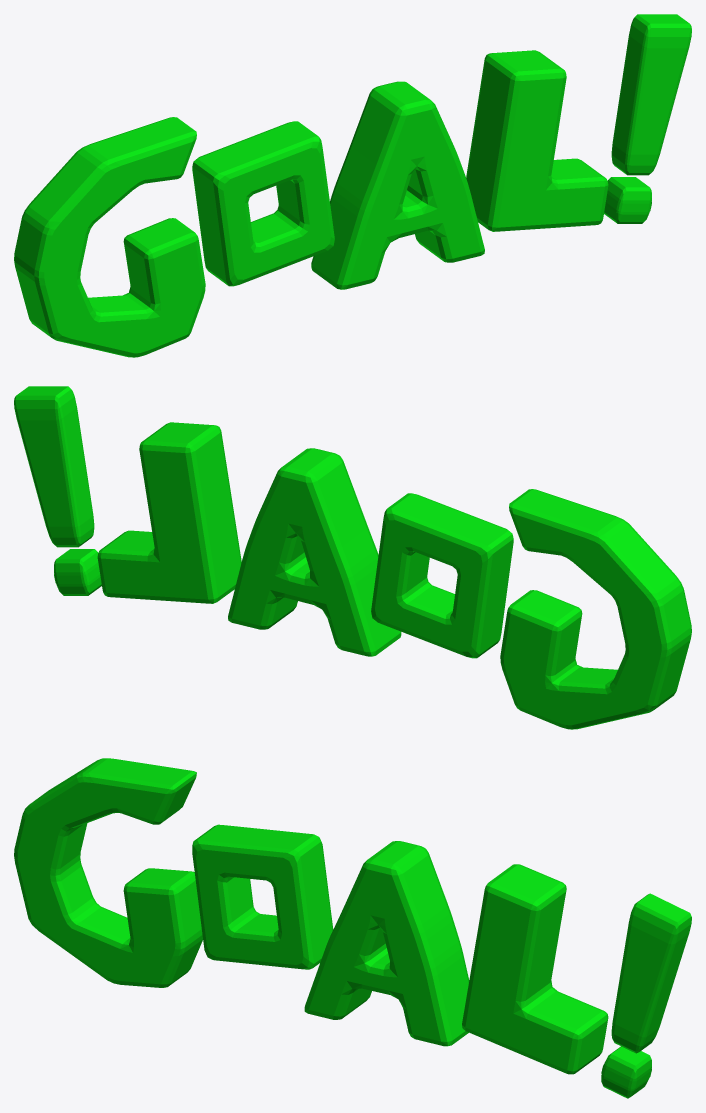
Rendered from GoalTxt.fbx.
The picture shows the model from 3 angles, top to bottom: view 1: azimuth 30°, elevation 25°; view 2: azimuth 150°, elevation 25°; view 3: azimuth 330°, elevation 25°; orthographic projection.
Parts seen in each view (by area): view 1: 立方体; view 2: 立方体; view 3: 立方体.
Boxes of the visible parts, box(x1,y1,x2,y2) form: 立方体: box(14, 14, 691, 357); 立方体: box(14, 386, 691, 729); 立方体: box(14, 758, 691, 1098).
Bounding box in the file's own units: 285 × 87.26 × 27.03.
